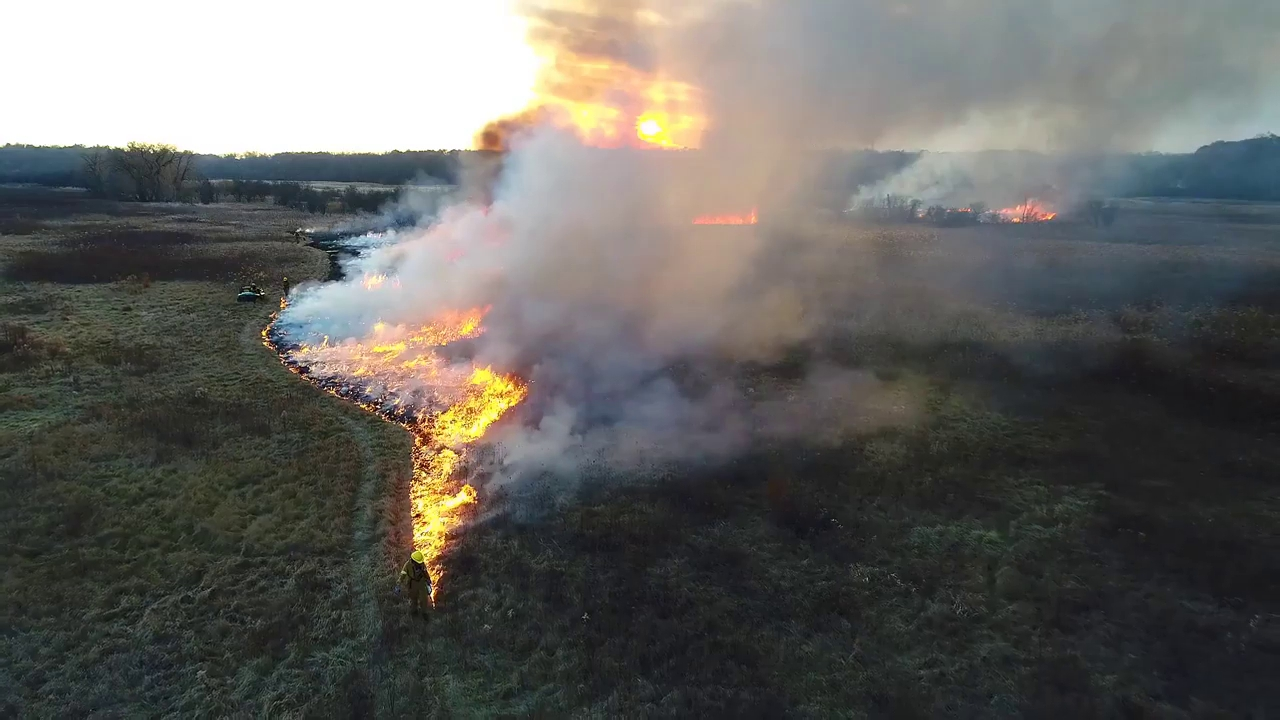forest_fire: (262, 299, 528, 580), (992, 201, 1056, 222), (693, 208, 757, 225), (362, 273, 398, 290)
